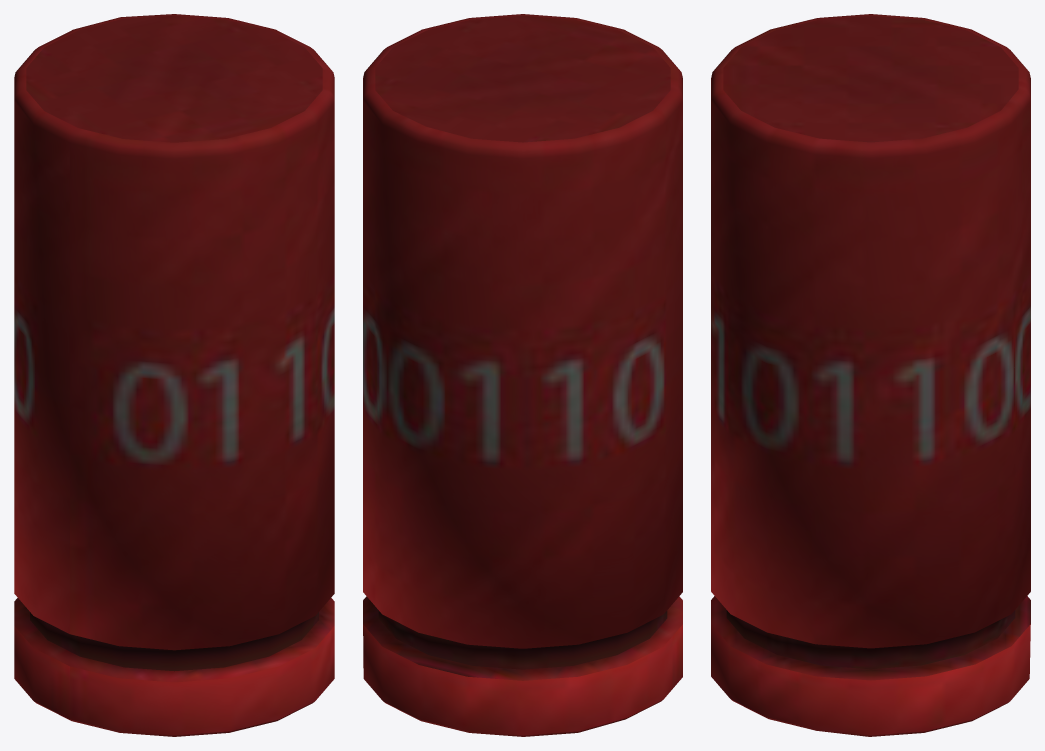
The model's file is CapacitorLarge02.FBX.
3 views of the same model, side by side, from view 1: azimuth 30°, elevation 25°; view 2: azimuth 150°, elevation 25°; view 3: azimuth 270°, elevation 25° (orthographic).
Parts seen in each view (by area): view 1: Cylinder001; view 2: Cylinder001; view 3: Cylinder001.
Part boxes in pixels (<box>): Cylinder001: <box>14,14,334,736</box>; Cylinder001: <box>363,14,682,736</box>; Cylinder001: <box>711,14,1030,736</box>.
Bounding box in the file's own units: 39.37 × 81.86 × 38.77.
Materials: 1 (1 with a texture image).
